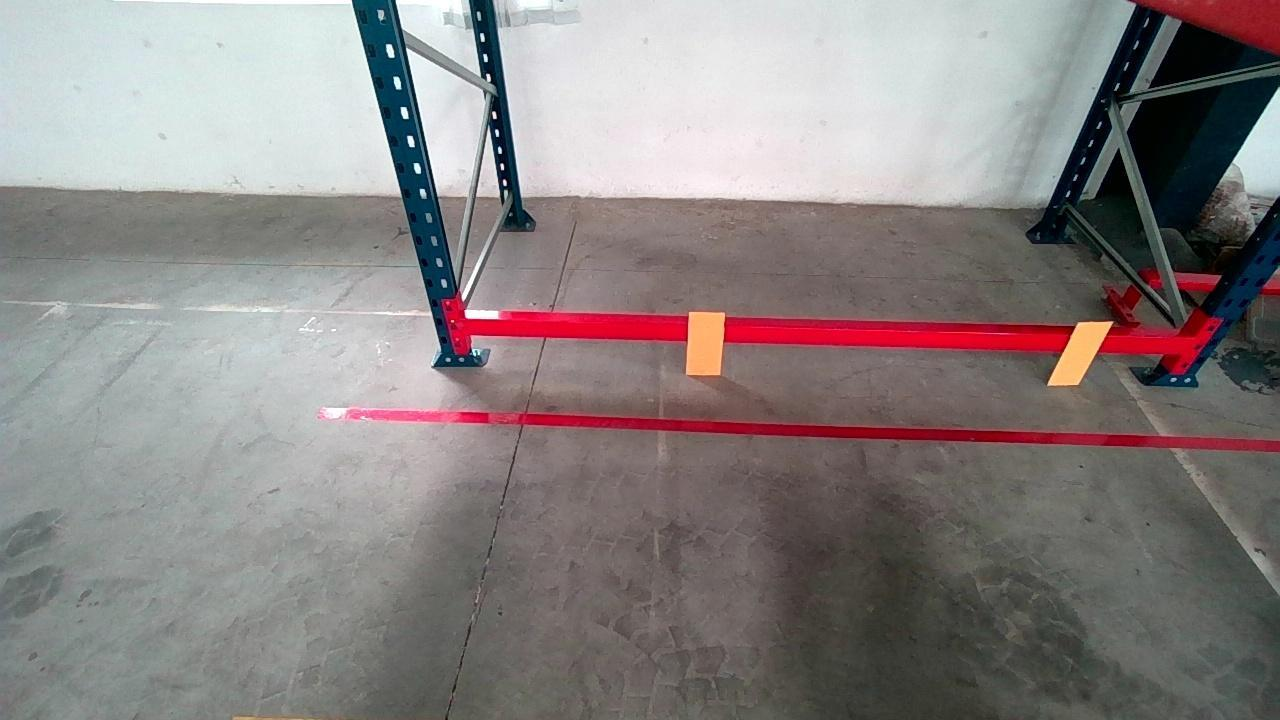h_rack: (466, 316, 1188, 356)
orange_strip: (1049, 321, 1115, 383), (688, 311, 724, 372)
red_line: (317, 403, 1277, 453)
